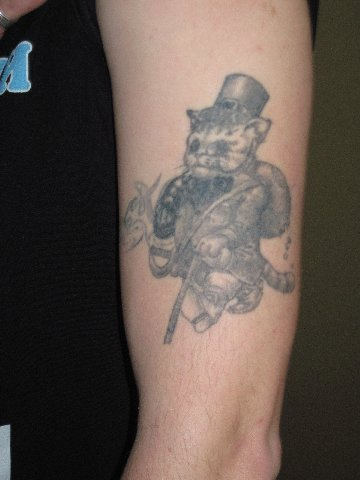tatu8_kot: (125, 67, 305, 344)
